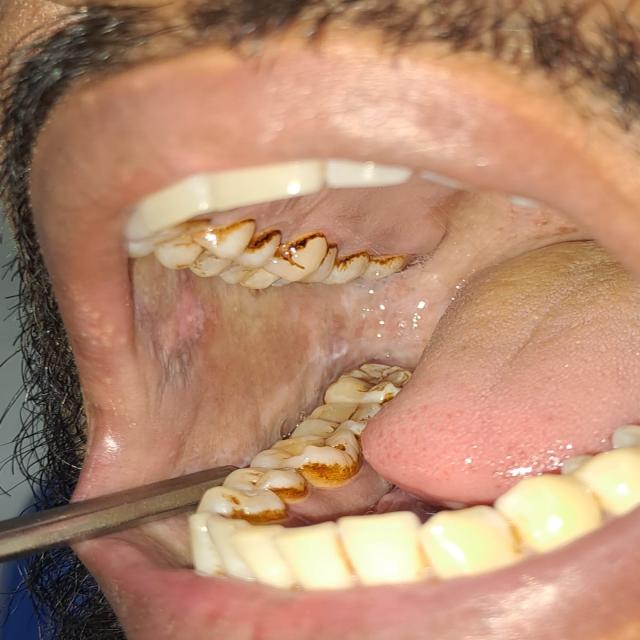leukoplakia-like-detection: (141, 259, 459, 480)
processing_area: (136, 185, 639, 496)
